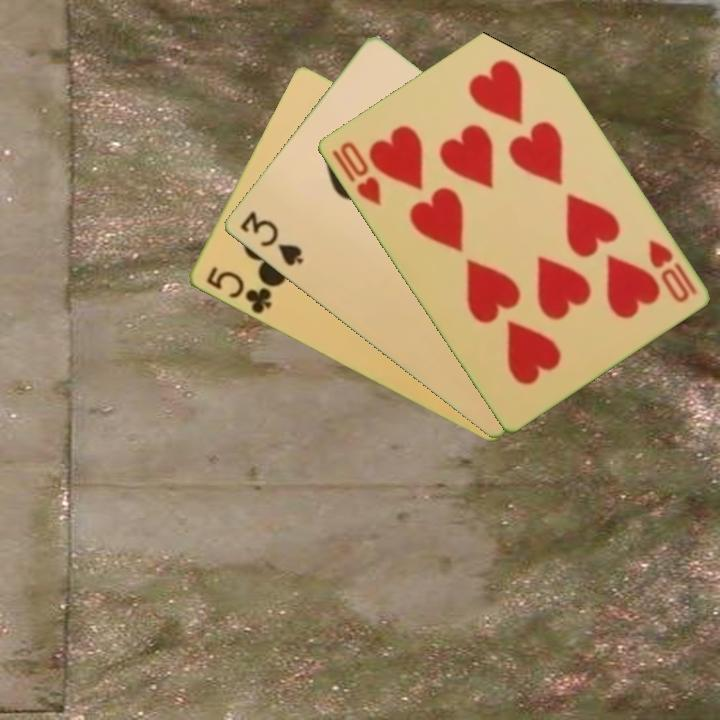10h: (327, 137, 384, 210), (644, 236, 700, 306)
3s: (236, 207, 306, 270)
5c: (202, 263, 275, 317)
